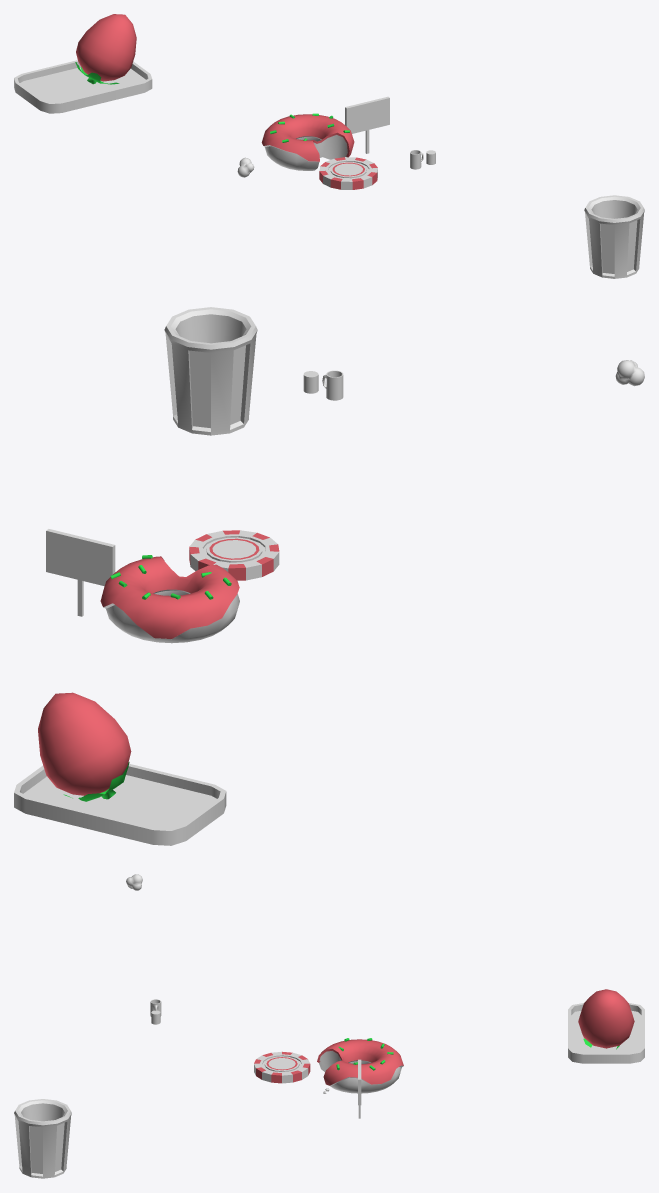
Rendered from Other.fbx.
The picture shows the model from 3 angles, top to bottom: view 1: azimuth 30°, elevation 25°; view 2: azimuth 150°, elevation 25°; view 3: azimuth 270°, elevation 25°; orthographic projection. The views are drawn at different scales.
Visible parts, largest first — view 1: Charcut, Bin, Donut, Straw, Chip, Sign; view 2: Charcut, Bin, Donut, Straw, Chip, Sign; view 3: Bin, Donut, Straw, Charcut, Chip.
Boxes of the visible parts, x1,y1,x2,y2 form: Charcut: (14, 60, 152, 113); Bin: (584, 195, 644, 278); Donut: (261, 113, 354, 170); Straw: (75, 14, 136, 84); Chip: (319, 157, 377, 189); Sign: (345, 96, 389, 153); Charcut: (14, 763, 226, 845); Bin: (164, 307, 257, 435); Donut: (100, 555, 239, 643); Straw: (38, 692, 131, 801); Chip: (189, 530, 279, 580); Sign: (46, 529, 115, 616); Bin: (14, 1099, 71, 1178); Donut: (317, 1038, 403, 1093); Straw: (578, 989, 634, 1049); Charcut: (568, 1003, 644, 1063); Chip: (254, 1051, 310, 1083).
Size of the model in its own units: 13.85 by 5.68 by 22.35.
